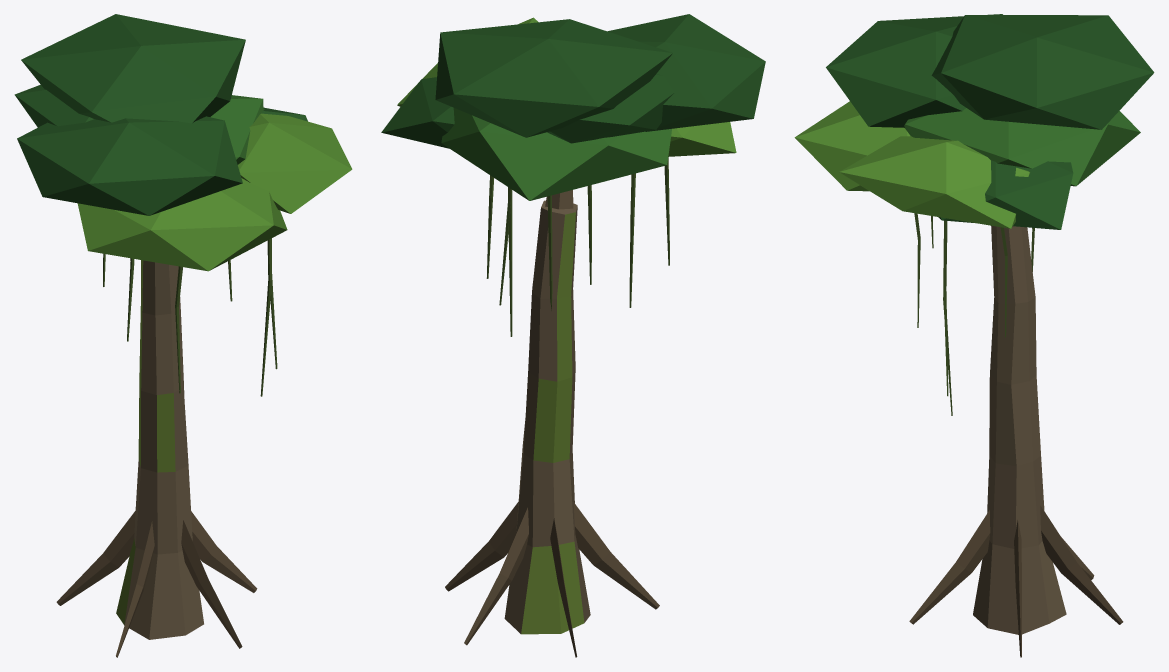
File: Tree_Kapok_C.glb
3 views of the same model, side by side, from view 1: azimuth 30°, elevation 25°; view 2: azimuth 150°, elevation 25°; view 3: azimuth 270°, elevation 25° (orthographic). The views are drawn at different scales.
Visible parts, largest first — view 1: Tree_Kapok_C; view 2: Tree_Kapok_C; view 3: Tree_Kapok_C.
Part boxes in pixels (<box>): Tree_Kapok_C: <box>14,14,352,657</box>; Tree_Kapok_C: <box>381,14,765,657</box>; Tree_Kapok_C: <box>794,14,1154,657</box>.
Size of the model in its own units: 4.92 by 8.71 by 4.95.
